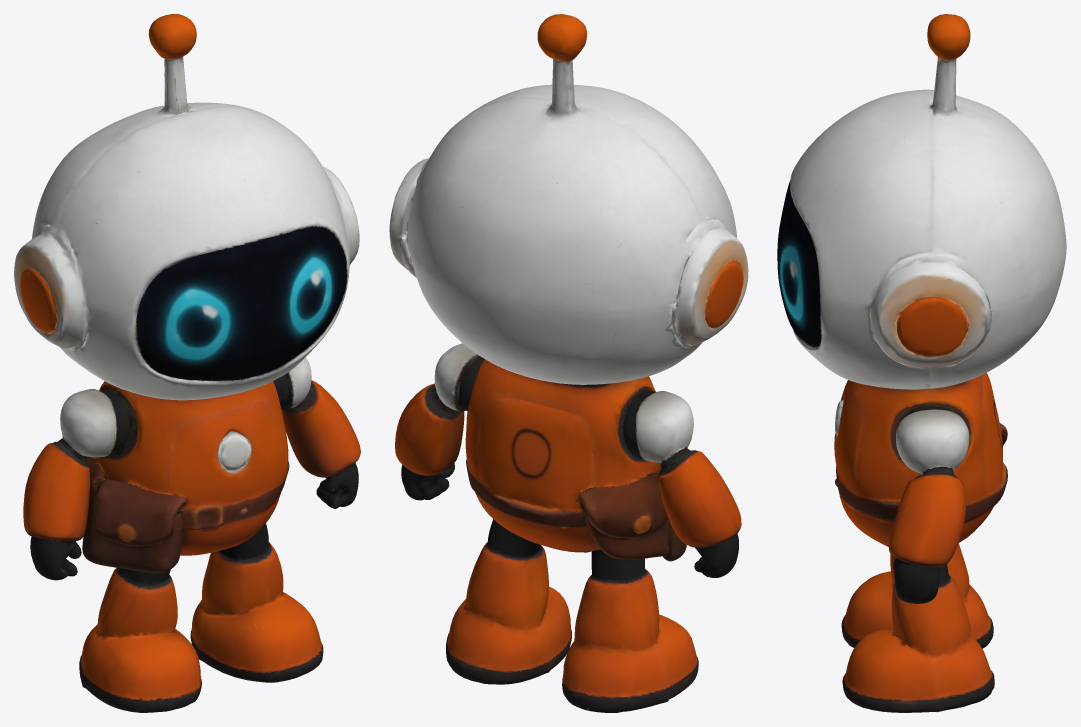
The model's file is chibi-robot.glb.
3 renders of one model, left to right at view 1: azimuth 30°, elevation 25°; view 2: azimuth 150°, elevation 25°; view 3: azimuth 270°, elevation 25°, orthographic. The views are drawn at different scales.
Parts seen in each view (by area): view 1: Mesh_0; view 2: Mesh_0; view 3: Mesh_0.
Boxes of the visible parts, x1,y1,x2,y2 form: Mesh_0: [14, 14, 360, 712]; Mesh_0: [389, 14, 748, 712]; Mesh_0: [777, 14, 1066, 712].
Size of the model in its own units: 0.2132 by 0.4 by 0.1627.
Materials: 1 (1 with a texture image).
